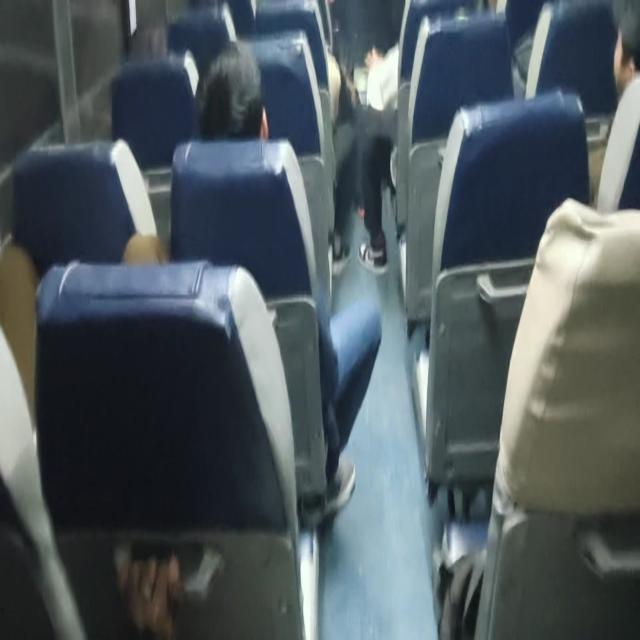person: (201, 57, 289, 152), (606, 0, 640, 89), (126, 17, 182, 59), (385, 0, 443, 40)
